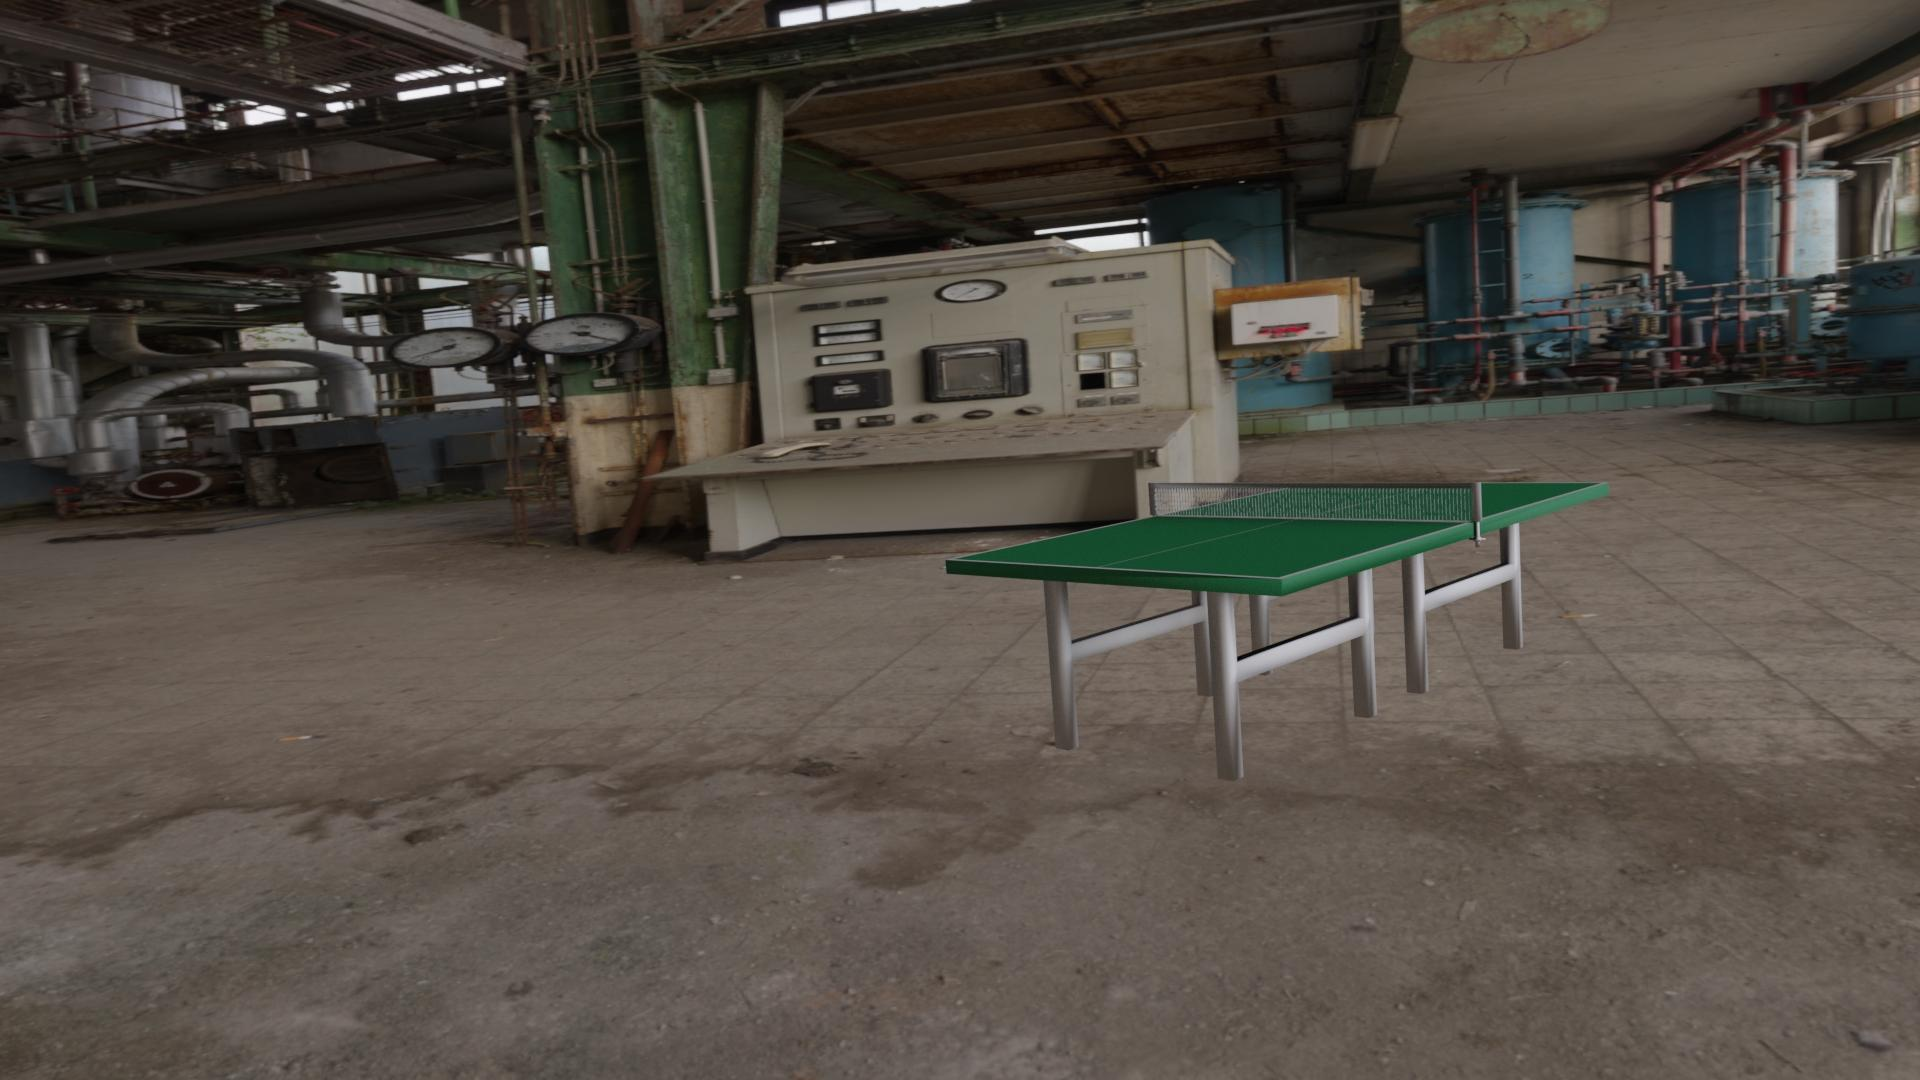table: (952, 483, 1602, 578)
